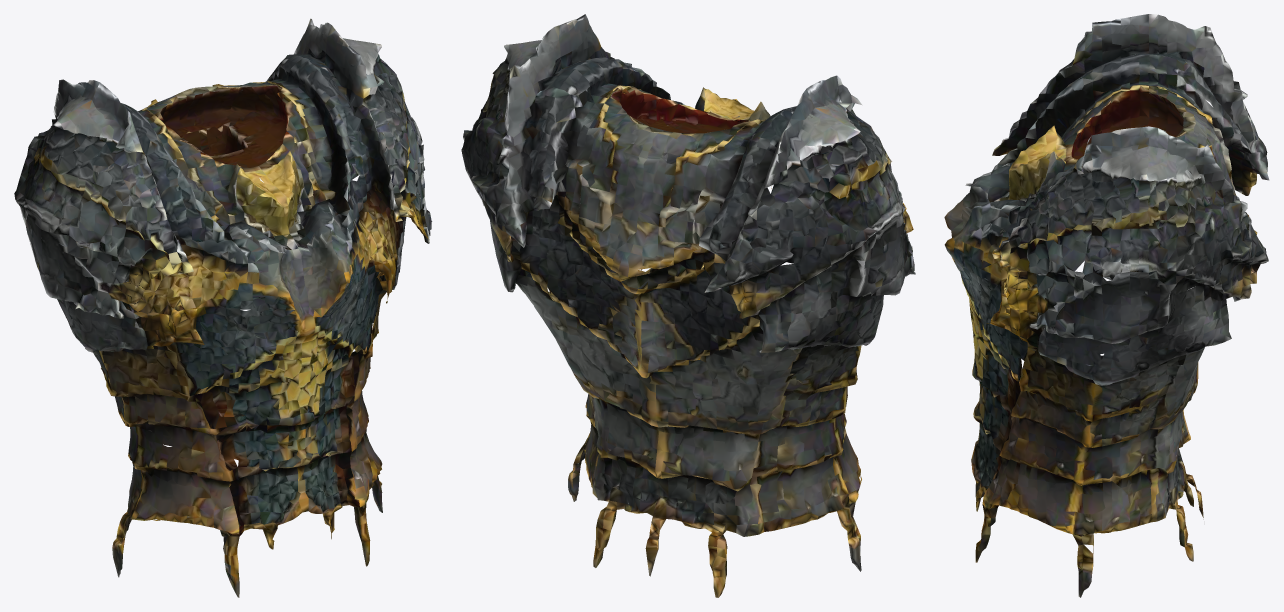
File: zirh_altin_pul.glb
3 renders of one model, left to right at view 1: azimuth 30°, elevation 25°; view 2: azimuth 150°, elevation 25°; view 3: azimuth 270°, elevation 25°, orthographic. The views are drawn at different scales.
Parts seen in each view (by area): view 1: zirh_altin_pul; view 2: zirh_altin_pul; view 3: zirh_altin_pul.
Boxes of the visible parts, x1,y1,x2,y2 form: zirh_altin_pul: (14, 18, 432, 597); zirh_altin_pul: (461, 14, 915, 597); zirh_altin_pul: (944, 14, 1269, 597).
Bounding box in the file's own units: 1.6 × 1.88 × 1.19.
1 material, 1 textured.
